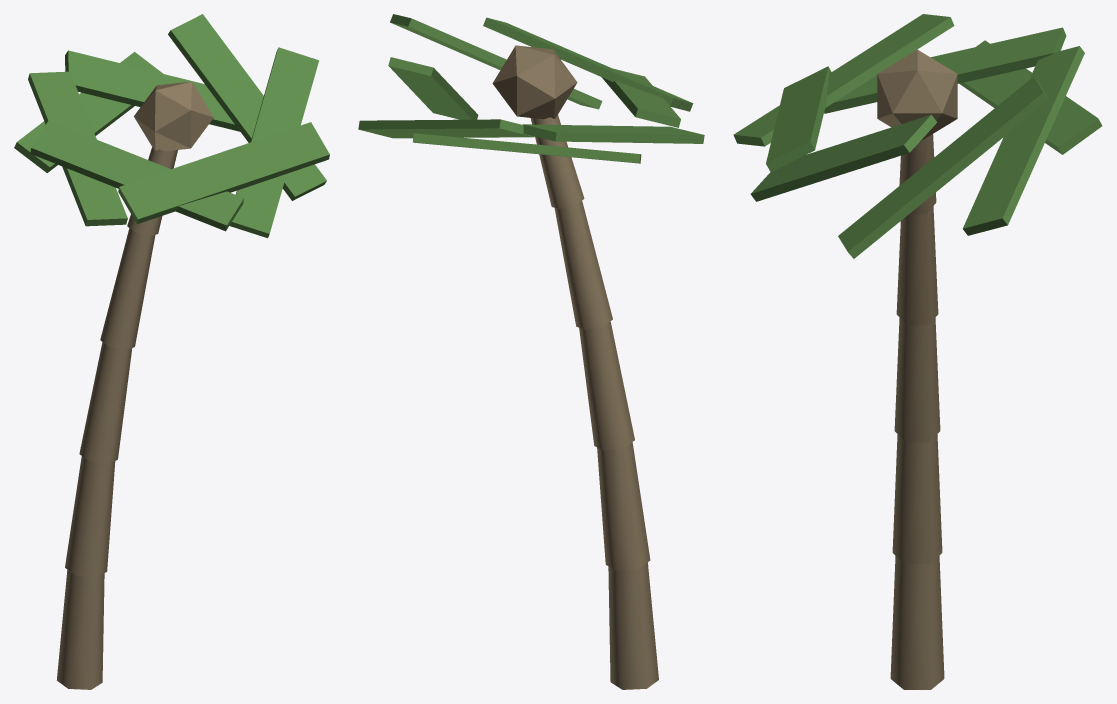
File: tree_palm_3.glb
3 views of the same model, side by side, from view 1: azimuth 30°, elevation 25°; view 2: azimuth 150°, elevation 25°; view 3: azimuth 270°, elevation 25° (orthographic). The views are drawn at different scales.
Parts seen in each view (by area): view 1: tree_palm_3; view 2: tree_palm_3; view 3: tree_palm_3.
Part boxes in pixels (<box>): tree_palm_3: <box>14,14,329,689</box>; tree_palm_3: <box>358,14,704,689</box>; tree_palm_3: <box>733,14,1102,689</box>.
Bounding box in the file's own units: 2.26 × 4.51 × 2.19.
